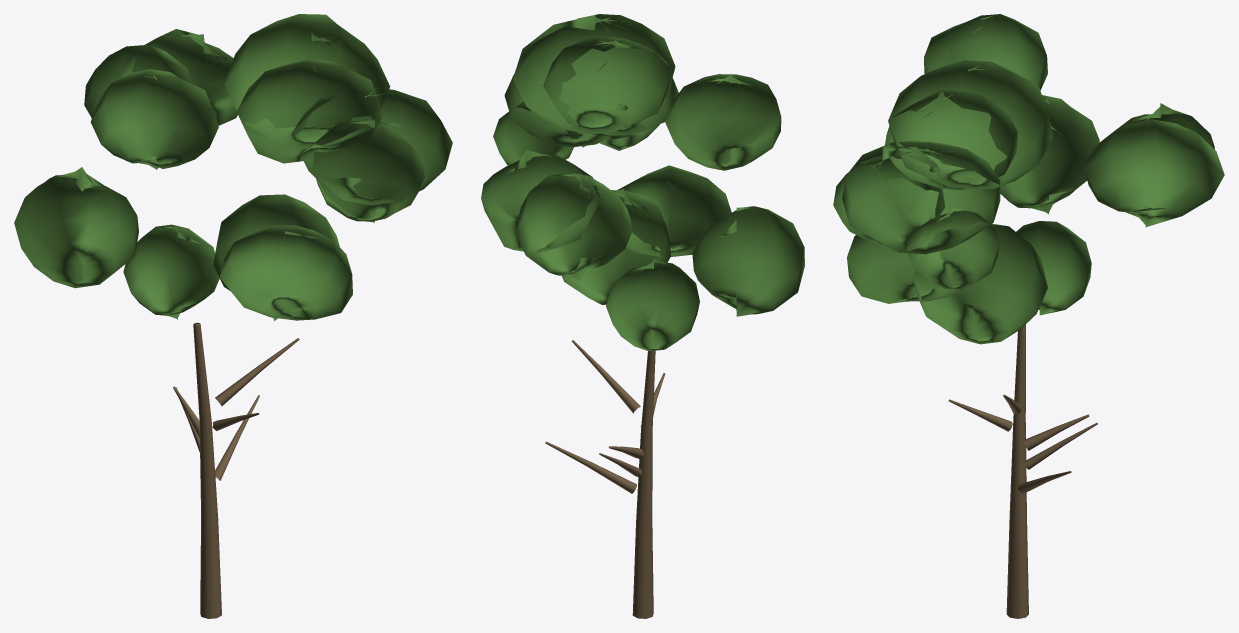
File: field_birch_b_lod1.glb
The picture shows the model from 3 angles, left to right: view 1: azimuth 30°, elevation 25°; view 2: azimuth 150°, elevation 25°; view 3: azimuth 270°, elevation 25°; orthographic projection. The views are drawn at different scales.
Parts seen in each view (by area): view 1: foliage, bark; view 2: foliage, bark; view 3: foliage, bark.
Boxes of the visible parts, x1,y1,x2,y2 form: foliage: (14,14,452,320); bark: (173,322,299,618); foliage: (481,14,804,351); bark: (545,340,665,618); foliage: (833,14,1224,344); bark: (948,324,1097,618).
Size of the model in its own units: 4.38 by 6.88 by 4.2.
